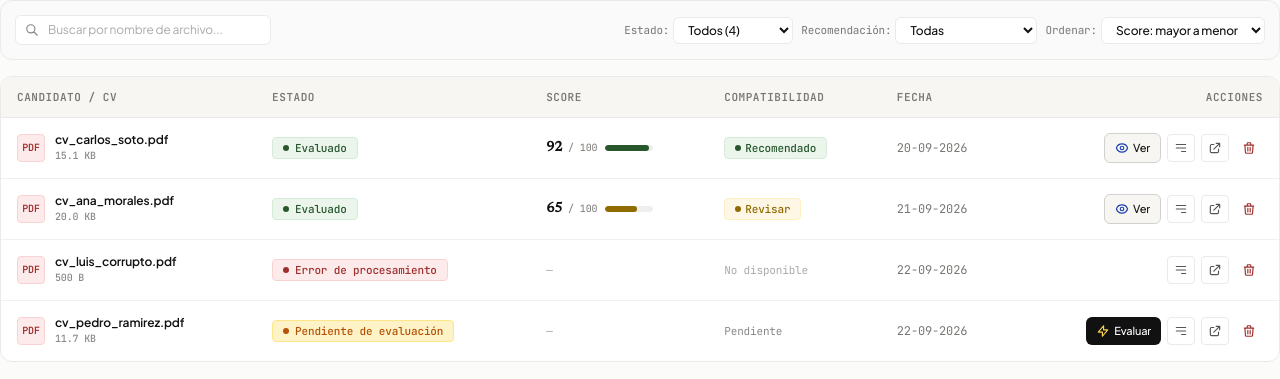
it: Paso 5 — Dashboard y Visualización de Resultados › 6. El filtro por estado (Pendientes / Evaluados) funciona correctamente
# First combobox is status filter
Select "Pendientes (1)" in the dropdown next to "Estado:" at (733, 30), box [673,16,793,44]
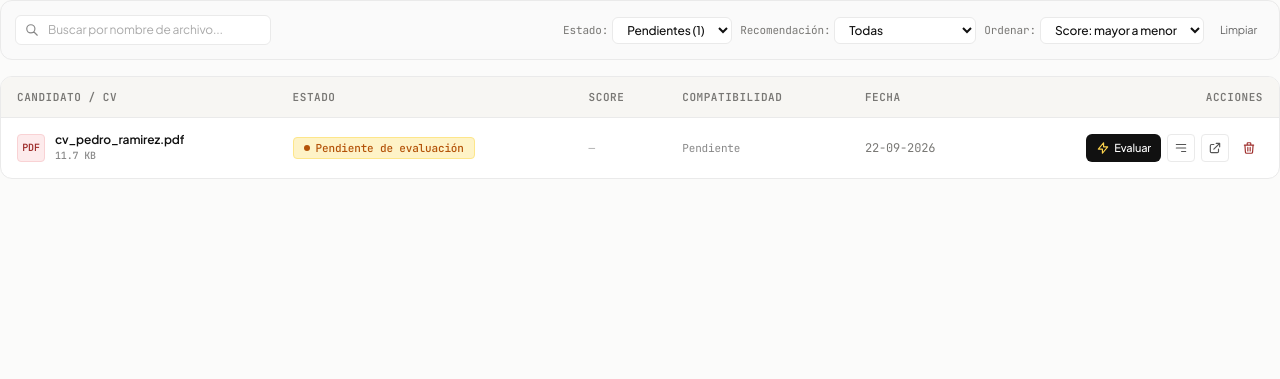
Expected: the text "cv_pedro_ramirez.pdf" is shown, [55,132,184,148]
Result: the text "cv_carlos_soto.pdf" is gone
Result: the text "cv_ana_morales.pdf" is gone
